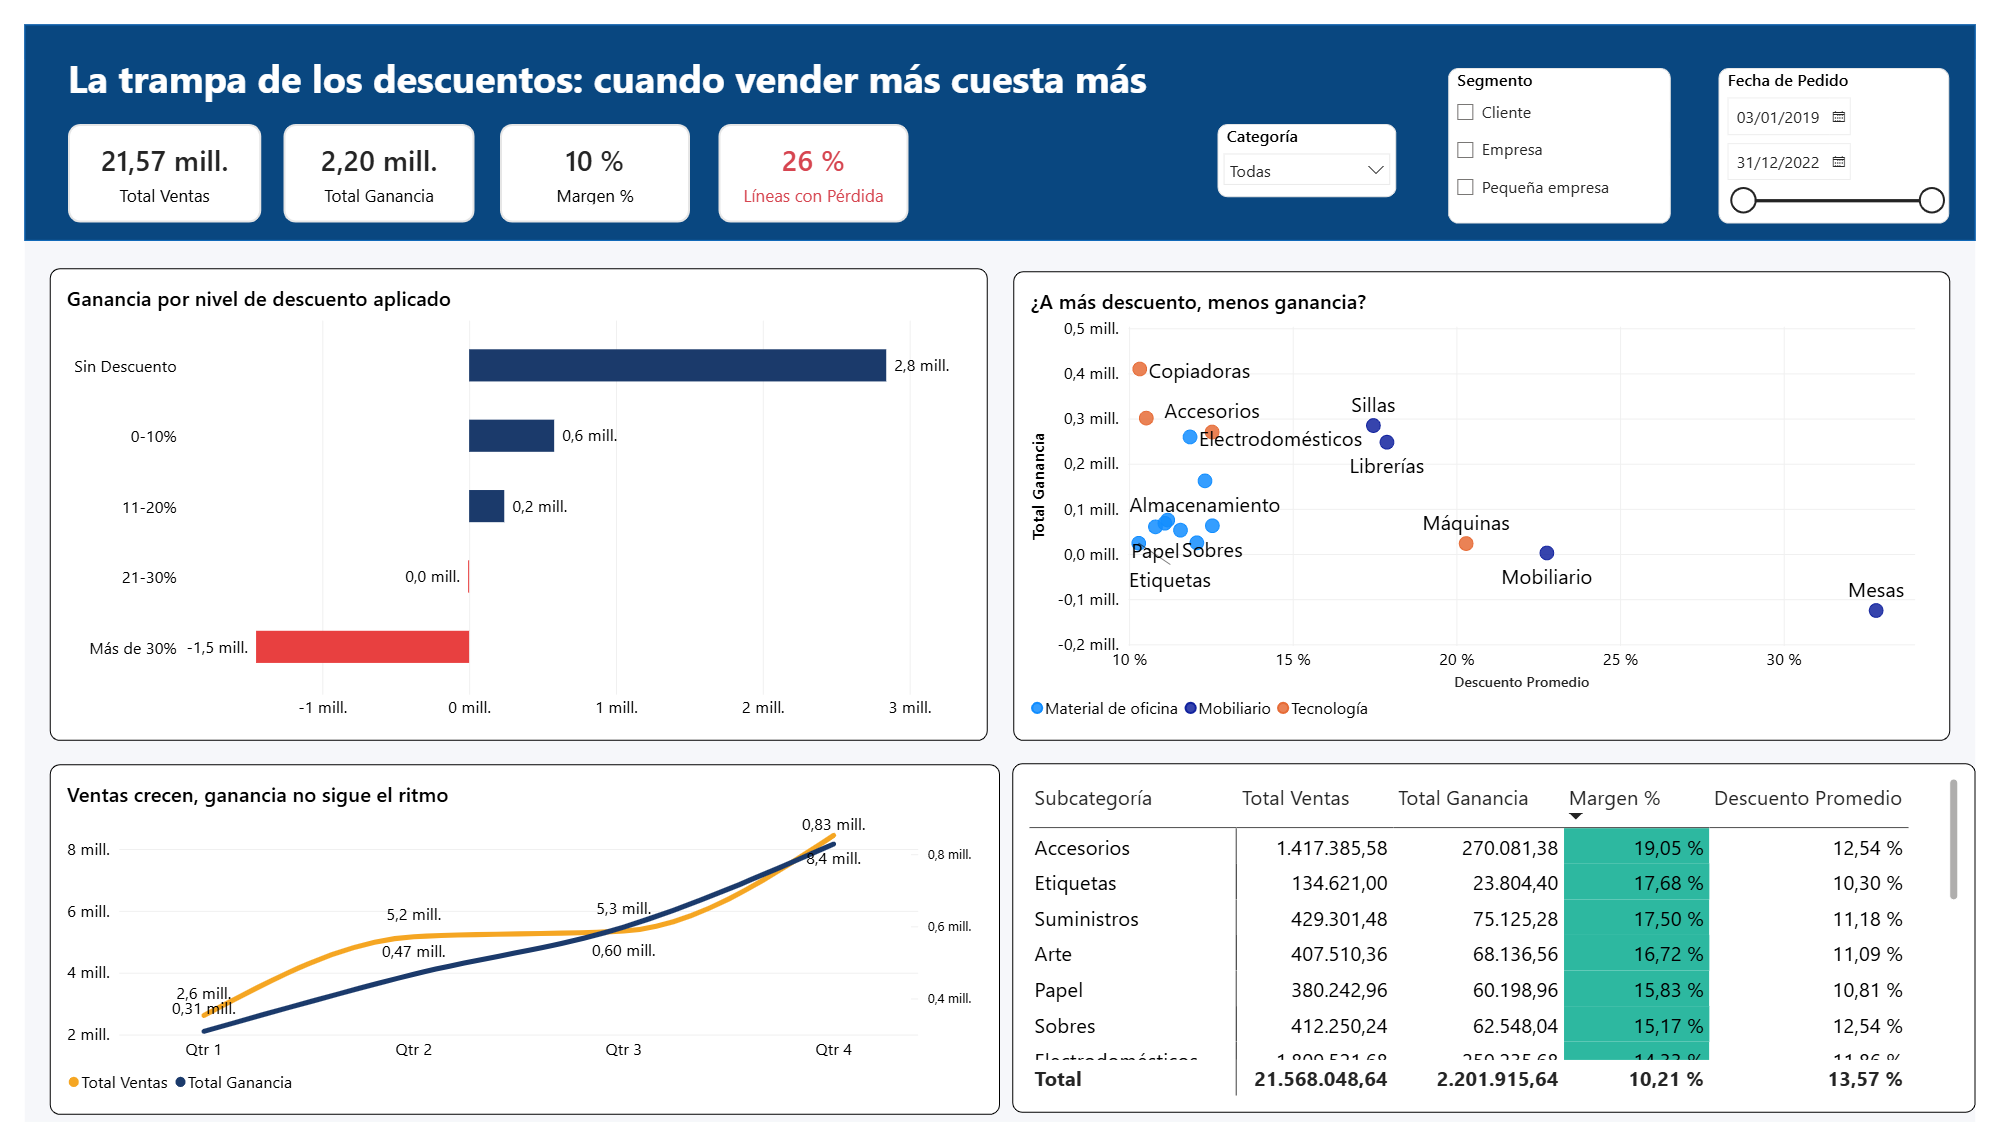

Layout of this report page (visuals, bound fields, positions):
{"tool":"powerbi","page":{"name":"Dashboard 1 - Precios/Ingresos","canvas":[1920,1080],"ordinal":0},"visuals":[{"type":"shape","box":[0,0,1920,212.5],"z":0},{"type":"card","fields":{"Values":["_Dax.Total Ventas"]},"box":[42.5,97.5,190,97.5],"z":1000},{"type":"scatterChart","title":"¿A más descuento, menos ganancia?","fields":{"Category":["data.Subcategoria"],"Series":["data.Categoria"],"X":["_Dax.Descuento Promedio"],"Y":["_Dax.Total Ganancia"]},"box":[972.5,242.5,922.5,462.5],"z":2000},{"type":"clusteredBarChart","title":"Ganancia por nivel de descuento aplicado","fields":{"Category":["data.Rango Descuento"],"Y":["_Dax.Total Ganancia"]},"box":[25,240,922.5,465],"z":3000},{"type":"lineChart","title":"Ventas crecen, ganancia no sigue el ritmo","fields":{"Category":["data.FechaPedido.Variación.Jerarquía de fechas.Trimestre"],"Y":["_Dax.Total Ventas"],"Y2":["_Dax.Total Ganancia"]},"box":[25,727.5,935,345],"z":4000},{"type":"pivotTable","fields":{"Rows":["data.Subcategoria"],"Values":["_Dax.Total Ventas","_Dax.Total Ganancia","_Dax.Margen %","_Dax.Descuento Promedio"]},"box":[971.6,727.1,948.2,344.4],"z":5000},{"type":"slicer","fields":{"Values":["data.Segmento"]},"box":[1401,42.5,219,153.1],"z":6000},{"type":"slicer","fields":{"Values":["data.Categoria"]},"box":[1173.5,97.8,176.5,72.3],"z":7000},{"type":"textbox","box":[42.5,27.6,1280,57.5],"z":8000},{"type":"card","fields":{"Values":["_Dax.Total Ganancia"]},"box":[255,97.5,187.5,97.5],"z":9000},{"type":"card","fields":{"Values":["_Dax.Margen %"]},"box":[467.5,97.5,187.5,97.5],"z":10000},{"type":"card","fields":{"Values":["_Dax.% Pedidos con Pérdida"]},"box":[682.5,97.5,187.5,97.5],"z":11000},{"type":"slicer","fields":{"Values":["data.FechaPedido"]},"box":[1666.8,42.5,227.5,153.1],"z":12000}]}

Visuals, with their boxes in screenshot pixels (x1, y1, x2, y2), scaled from the page's 1920x1080 canvas onto the 2000x1146 screenshot:
shape: pyautogui.locateOnScreen(0, 0, 1999, 225)
card - _Dax.Total Ventas: pyautogui.locateOnScreen(44, 103, 242, 207)
"¿A más descuento, menos ganancia?" scatterChart: pyautogui.locateOnScreen(1013, 257, 1974, 748)
"Ganancia por nivel de descuento aplicado" clusteredBarChart: pyautogui.locateOnScreen(26, 255, 987, 748)
"Ventas crecen, ganancia no sigue el ritmo" lineChart: pyautogui.locateOnScreen(26, 772, 1000, 1138)
pivotTable - data.Subcategoria x _Dax.Total Ventas: pyautogui.locateOnScreen(1012, 772, 1999, 1137)
slicer - data.Segmento: pyautogui.locateOnScreen(1459, 45, 1688, 208)
slicer - data.Categoria: pyautogui.locateOnScreen(1222, 104, 1406, 180)
textbox: pyautogui.locateOnScreen(44, 29, 1378, 90)
card - _Dax.Total Ganancia: pyautogui.locateOnScreen(266, 103, 461, 207)
card - _Dax.Margen %: pyautogui.locateOnScreen(487, 103, 682, 207)
card - _Dax.% Pedidos con Pérdida: pyautogui.locateOnScreen(711, 103, 906, 207)
slicer - data.FechaPedido: pyautogui.locateOnScreen(1736, 45, 1973, 208)
